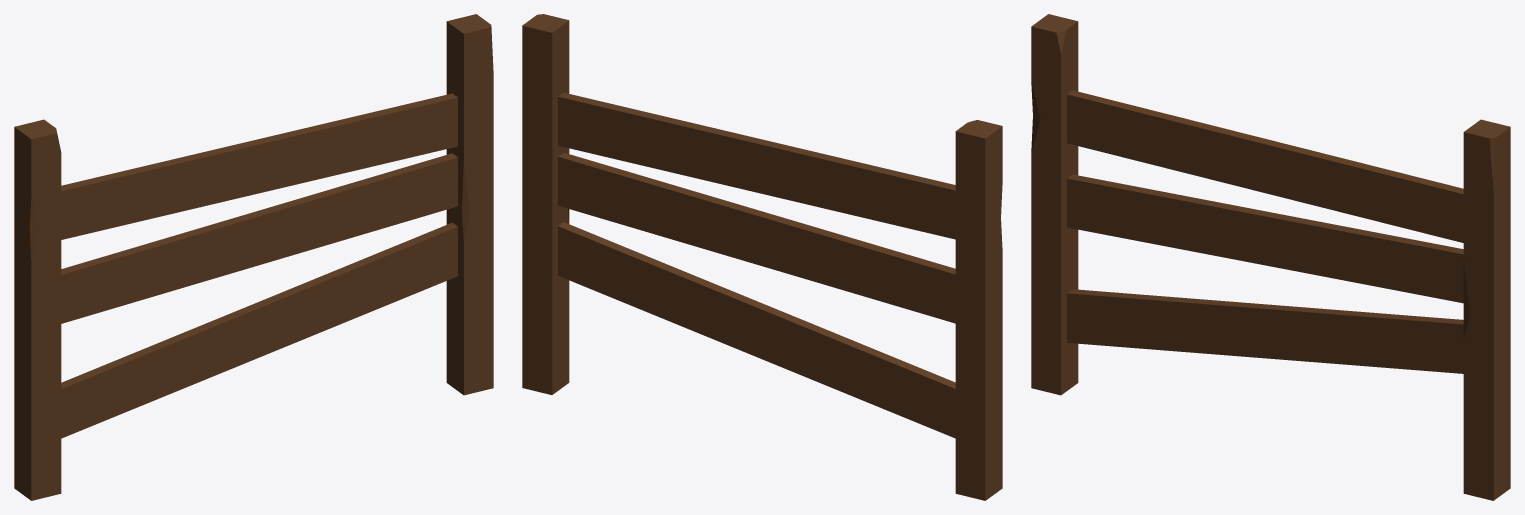
File: fence02.fbx
The picture shows the model from 3 angles, left to right: view 1: azimuth 30°, elevation 25°; view 2: azimuth 150°, elevation 25°; view 3: azimuth 330°, elevation 25°; orthographic projection.
Visible parts, largest first — view 1: fence02; view 2: fence02; view 3: fence02.
Part boxes in pixels (box(x1,y1,x2,y2)): fence02: box(14, 14, 493, 500); fence02: box(522, 14, 1002, 500); fence02: box(1031, 14, 1510, 500).
Size of the model in its own units: 209 by 156 by 13.52.
